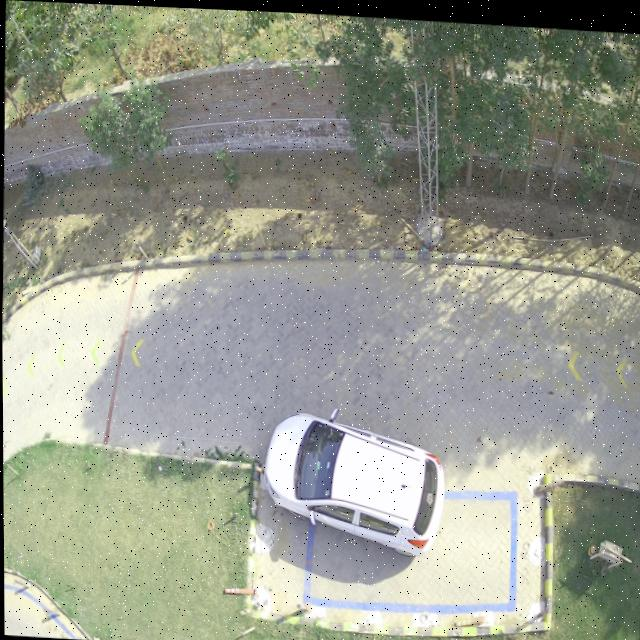car: (261, 410, 444, 551)
